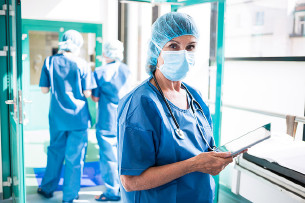face_mask: (159, 34, 200, 80)
